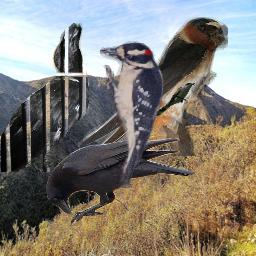Crow: (46, 138, 197, 226), (1, 23, 89, 172)
Cuckoo: (152, 82, 195, 116)
Swallow: (78, 17, 228, 156)
Woodpecker: (100, 39, 166, 188)
